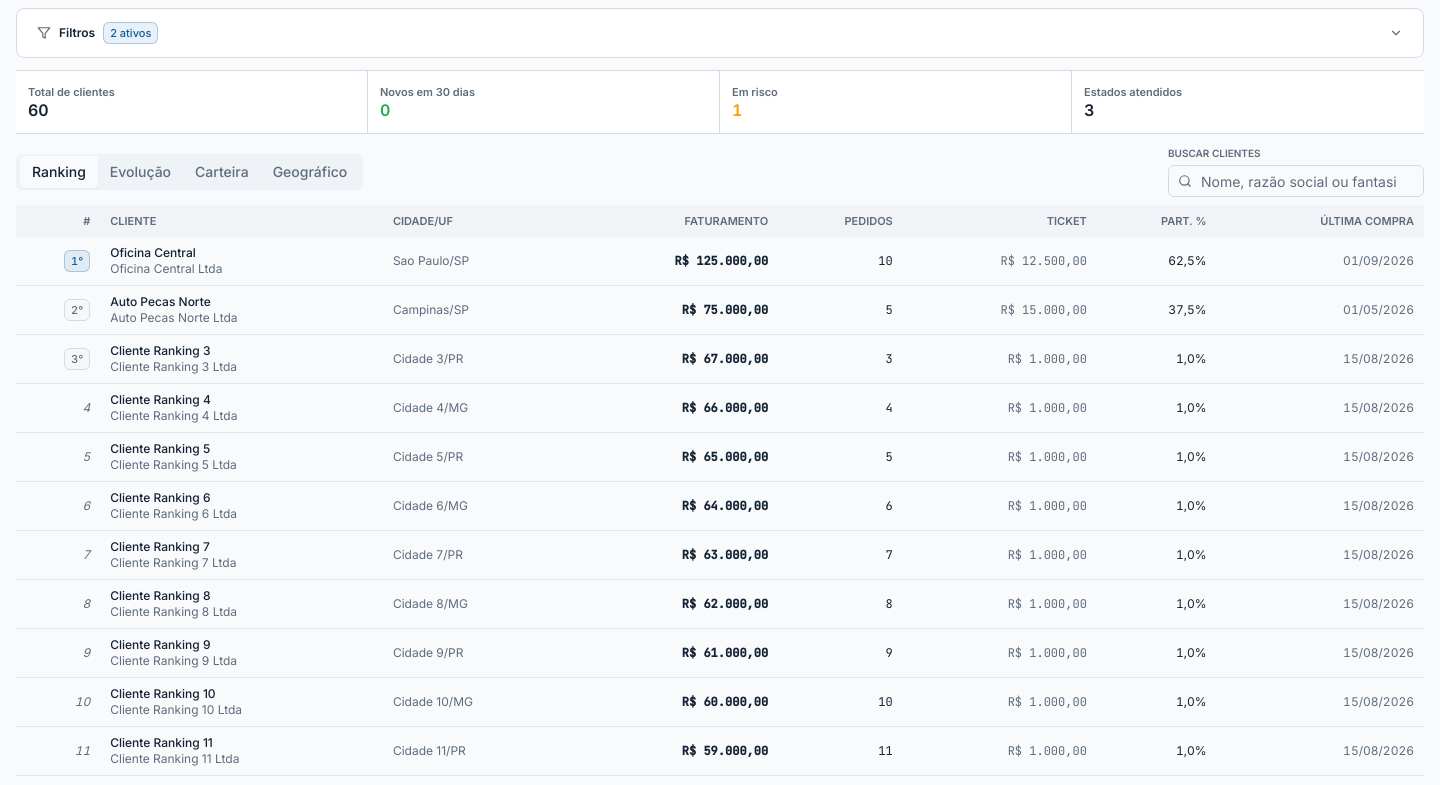
ClientesPage compacta › usa linguagem operacional nas abas e paineis
Press the mouse on the tab "Carteira" at (222, 172), box 183,156 -> 261,188
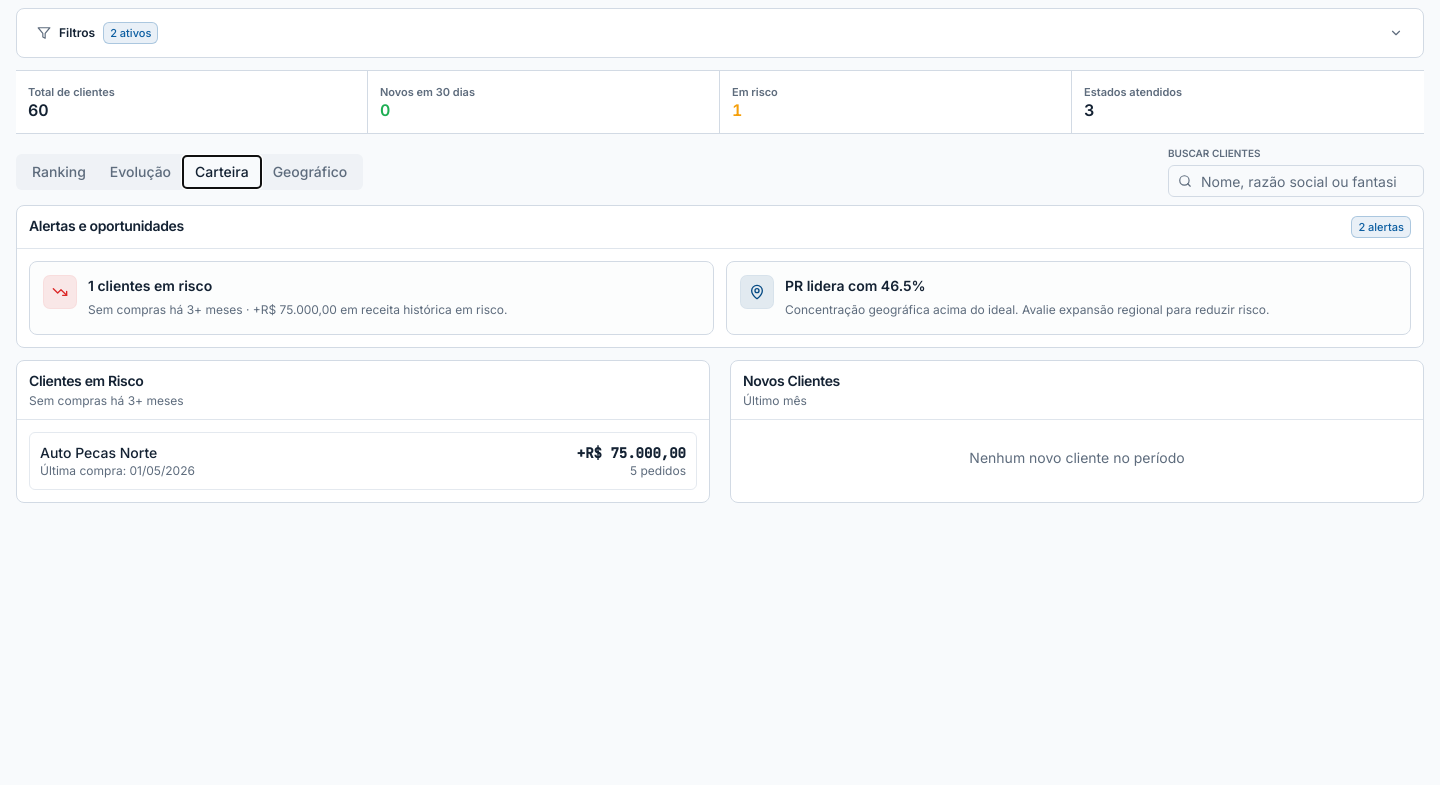
Expected: the heading "Alertas e oportunidades" is shown, 29,216 -> 184,236
